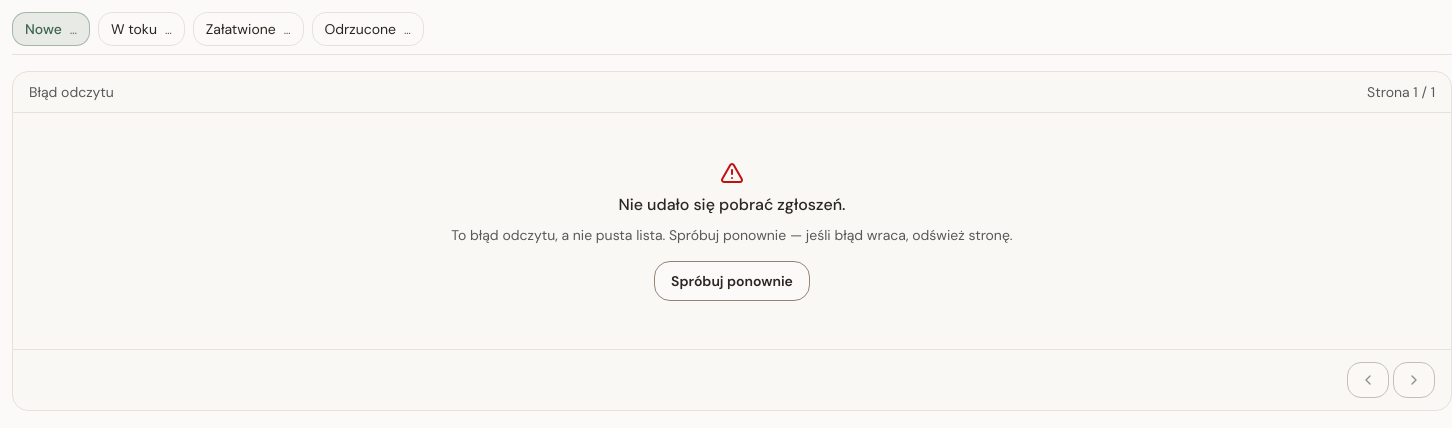
it: Panel admina — błąd odczytu listy nie udaje pustej kolejki (GL-3-018/046/054/058) › Zgłoszenia: 500 → stan błędu bez „Brak…”, ponowienie z pustą odpowiedzią → zwykła pusta kolejka
This screenshot has width=1452, height=428.
expect the text "Nie udało się pobrać zgłoszeń." is shown: met, box [618, 193, 846, 217]
expect the text "Brak zgłoszeń w tej kolejce" is not shown: met
Click the button "Spróbuj ponownie": (732, 281) [654, 261, 810, 301]
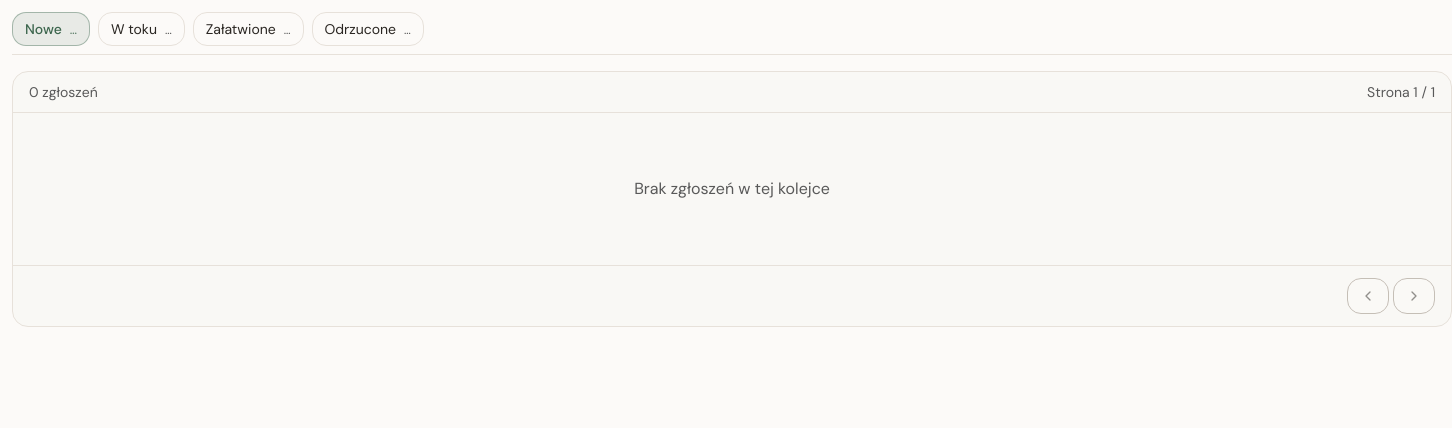
expect the text "Brak zgłoszeń w tej kolejce" is shown: met, box [634, 178, 830, 199]
expect the message is gone: met
expect the text "Nie udało się pobrać zgłoszeń." is gone: met
